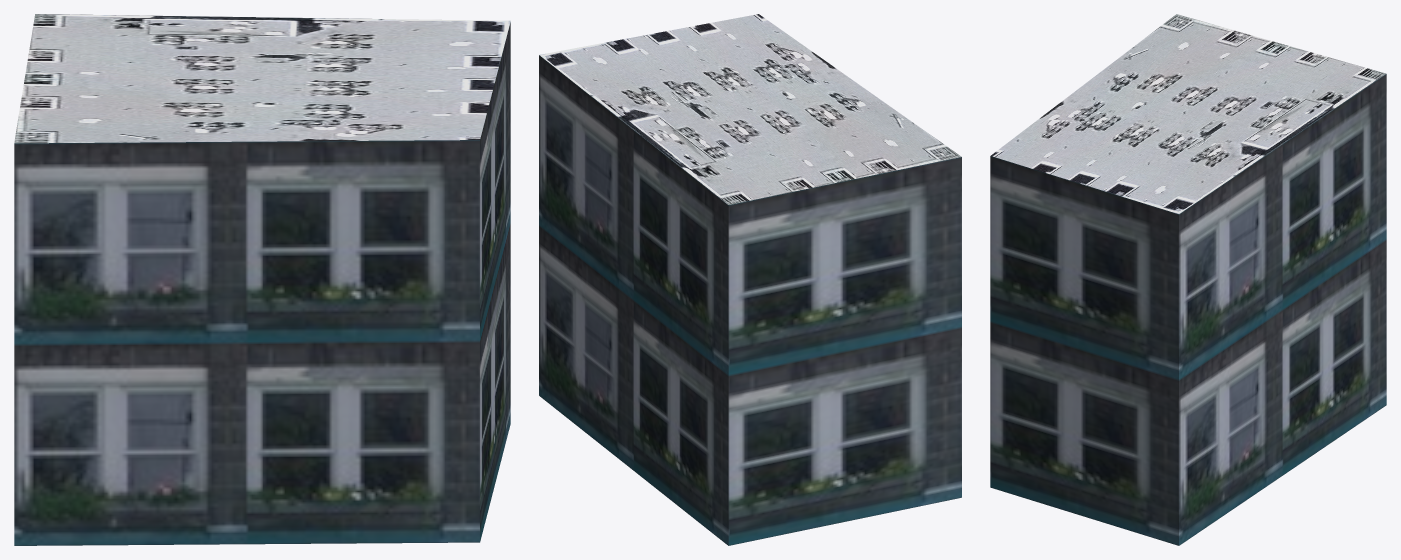
File: ResTex__3304.fbx
3 renders of one model, left to right at view 1: azimuth 30°, elevation 25°; view 2: azimuth 150°, elevation 25°; view 3: azimuth 270°, elevation 25°, orthographic. The views are drawn at different scales.
Parts seen in each view (by area): view 1: CityEngineMaterial_11_m, CityEngineMaterial_m; view 2: CityEngineMaterial_11_m, CityEngineMaterial_m; view 3: CityEngineMaterial_11_m, CityEngineMaterial_m.
Part boxes in pixels (x1,y1,x2,y2): CityEngineMaterial_11_m: [14, 22, 510, 545]; CityEngineMaterial_m: [14, 14, 510, 143]; CityEngineMaterial_11_m: [539, 55, 961, 545]; CityEngineMaterial_m: [539, 14, 961, 204]; CityEngineMaterial_11_m: [990, 74, 1386, 545]; CityEngineMaterial_m: [991, 14, 1385, 213].
Bounding box in the file's own units: 7.77 × 6 × 6.49.
Materials: 2 (2 with a texture image).
